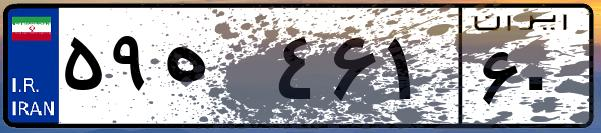0: (525, 38, 570, 115)
1: (385, 28, 445, 110)
4: (270, 28, 330, 110)
5: (57, 26, 110, 100)
6: (330, 28, 385, 110), (475, 38, 525, 113)
9: (110, 28, 158, 98)
ه: (158, 20, 270, 120)
